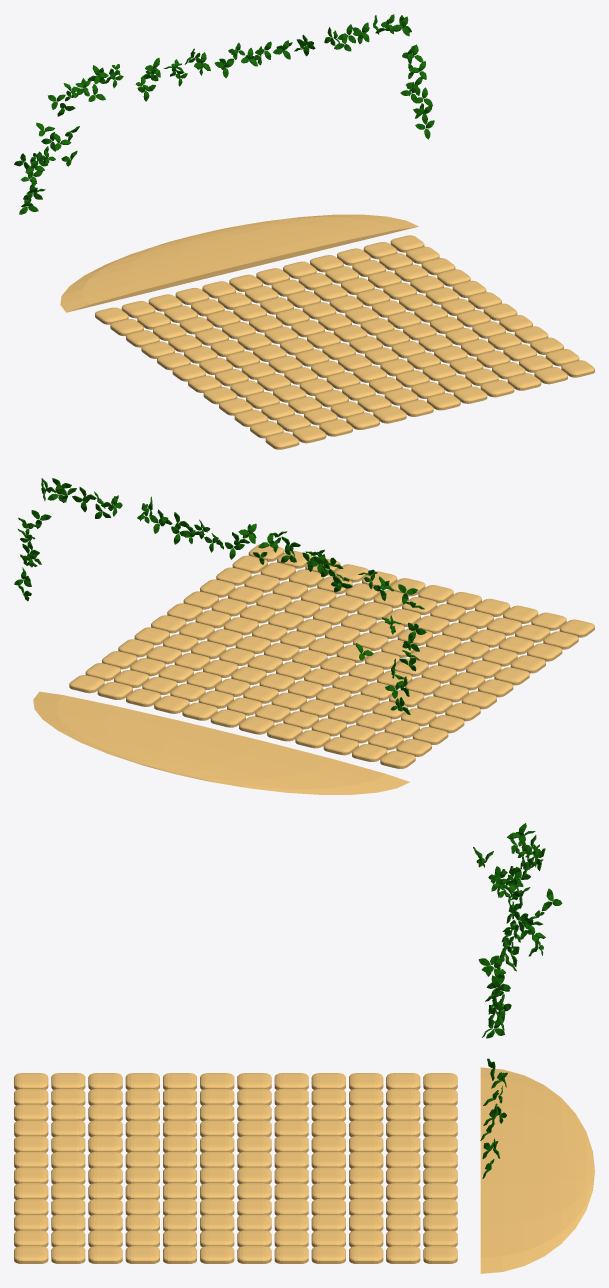
The model's file is fieldSummer.glb.
3 renders of one model, top to bottom at view 1: azimuth 30°, elevation 25°; view 2: azimuth 150°, elevation 25°; view 3: azimuth 270°, elevation 25°, orthographic. The views are drawn at different scales.
Parts seen in each view (by area): view 1: palyfield, sand; view 2: palyfield, sand; view 3: palyfield, sand.
Boxes of the visible parts, bbox=[...] form: palyfield: bbox=[95, 235, 594, 449]; sand: bbox=[60, 214, 418, 312]; palyfield: bbox=[69, 544, 594, 768]; sand: bbox=[33, 691, 409, 794]; palyfield: bbox=[14, 1073, 457, 1263]; sand: bbox=[480, 1067, 594, 1273].
Size of the model in its own units: 14.73 by 7.82 by 15.62.
